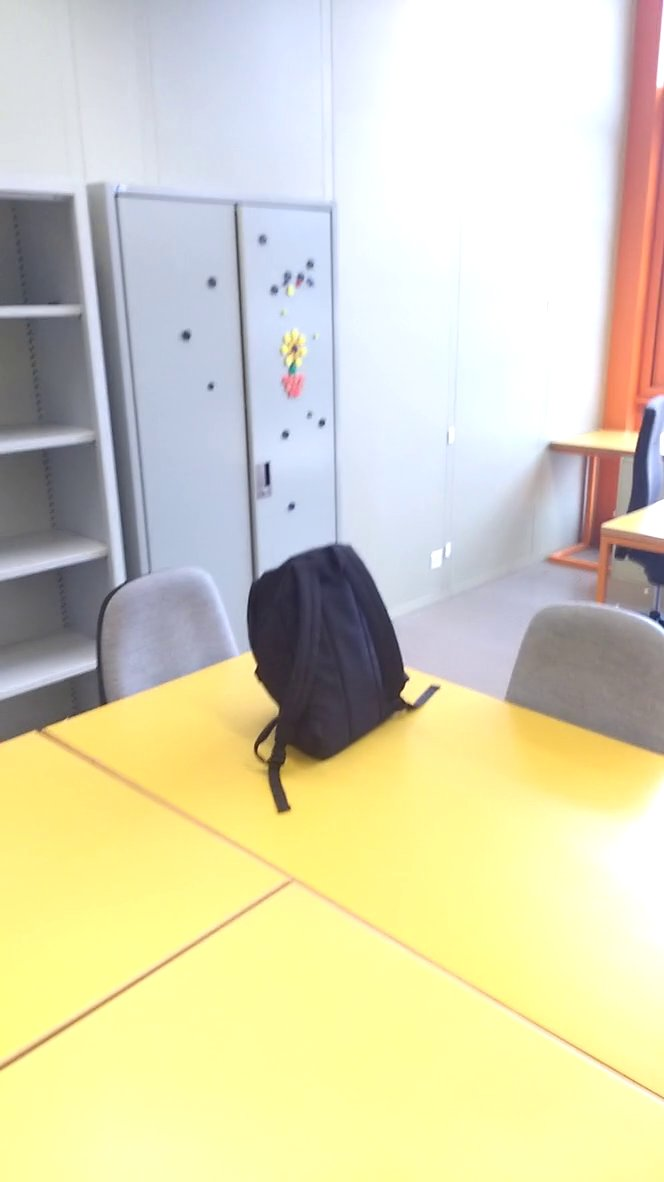bag: (244, 529, 442, 817)
chair: (492, 589, 664, 777), (81, 548, 246, 720)
